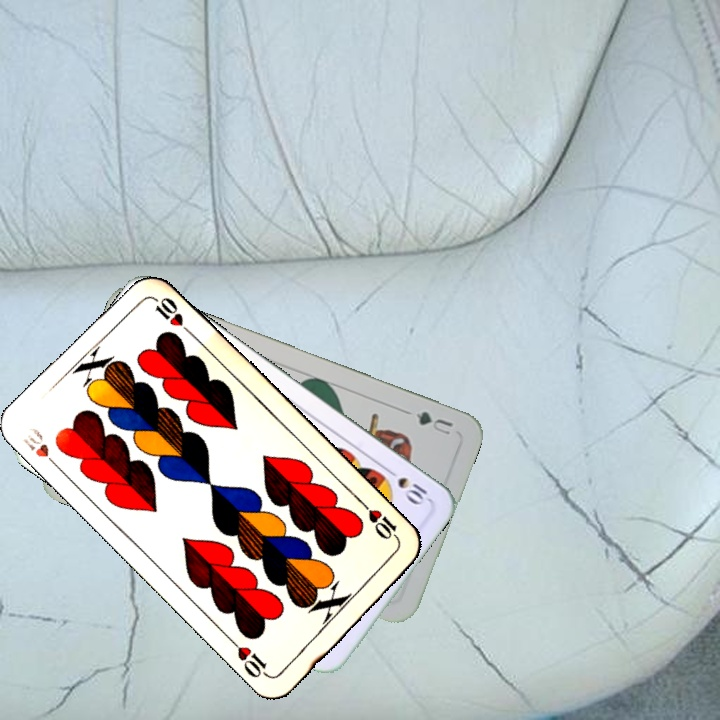GU: (411, 407, 456, 438)
H10: (19, 423, 64, 474), (358, 498, 403, 546)
S10: (381, 463, 432, 508)
